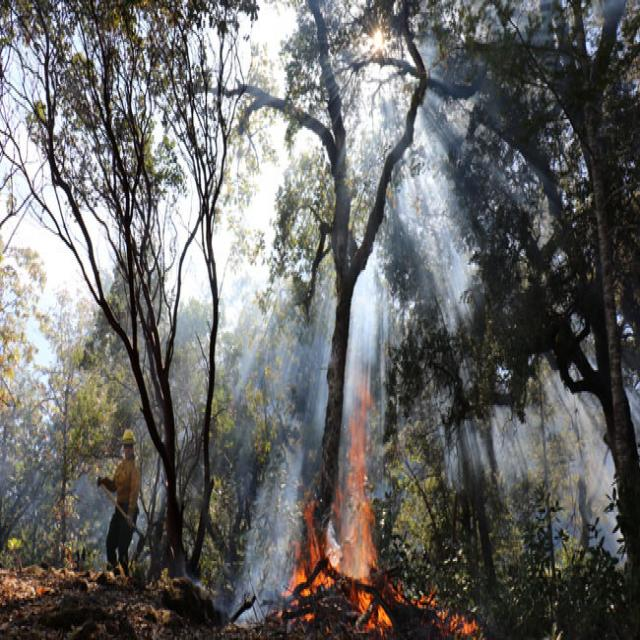Fire: (290, 268, 391, 628)
